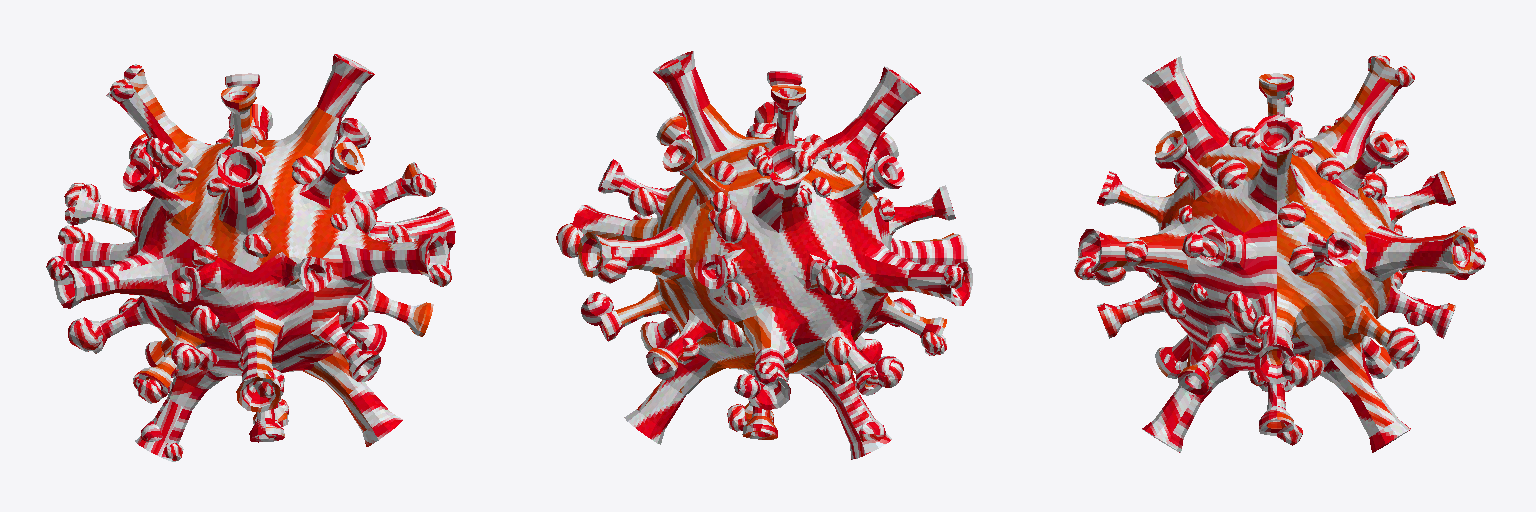
The picture shows the model from 3 angles: view 1: azimuth 30°, elevation 25°; view 2: azimuth 150°, elevation 25°; view 3: azimuth 270°, elevation 25°; orthographic projection.
Visible parts, largest first — view 1: Virus:Mesh; view 2: Virus:Mesh; view 3: Virus:Mesh.
Part boxes in pixels (left/top/right/bottom): Virus:Mesh: left=46, top=54, right=455, bottom=461; Virus:Mesh: left=556, top=51, right=972, bottom=459; Virus:Mesh: left=1074, top=55, right=1485, bottom=452.
Size of the model in its own units: 1.82 by 1.56 by 1.61.
Materials: 1 (1 with a texture image).